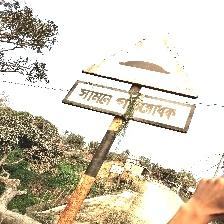Speed-breaker: (63, 23, 202, 132)
